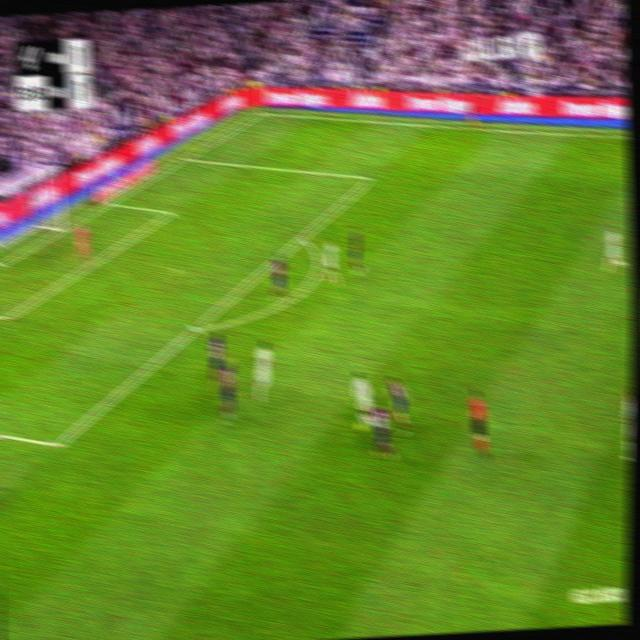bigarea_bottom_inner: (49, 430, 66, 459)
bigarea_top_inner: (365, 170, 377, 186)
bigarea_top_outter: (180, 150, 191, 163)
bottom_arc_area_intersection: (188, 316, 203, 338)
corner: (253, 104, 268, 117)
smallarea_bottom_inner: (2, 306, 15, 328)
smallarea_top_inner: (165, 206, 175, 218)
top_arc_area_intersection: (296, 228, 309, 246)
